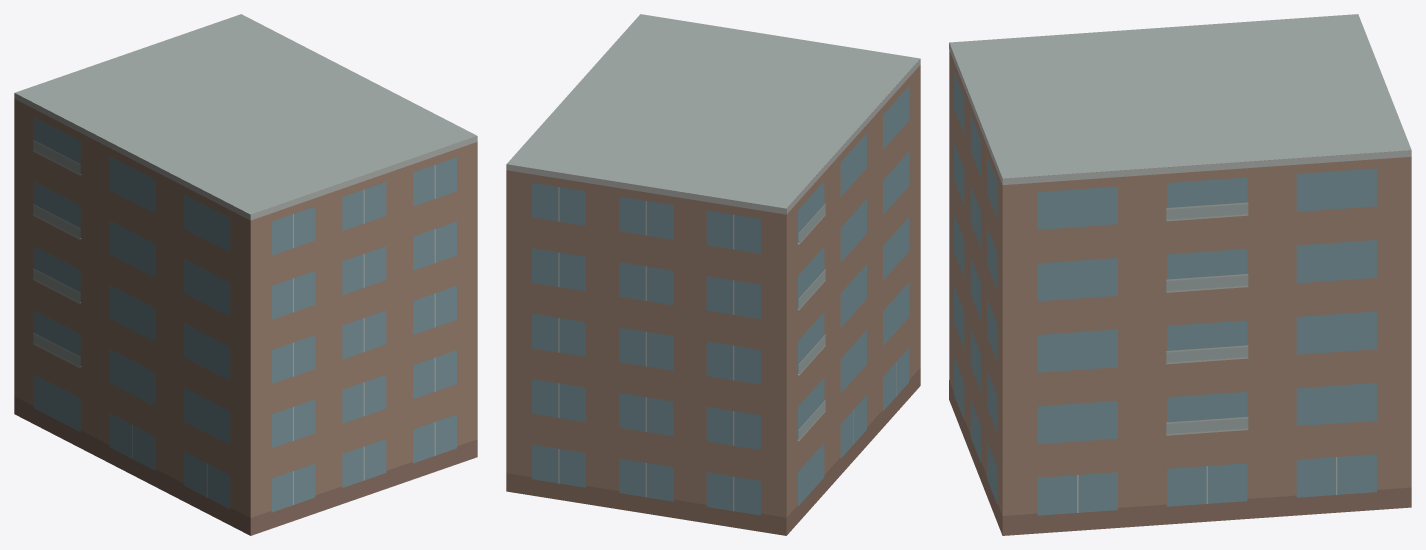
The model's file is survey-upis-32996899.glb.
3 renders of one model, left to right at view 1: azimuth 30°, elevation 25°; view 2: azimuth 150°, elevation 25°; view 3: azimuth 270°, elevation 25°, orthographic. The views are drawn at different scales.
Parts seen in each view (by area): view 1: survey-upis-32996899.tmp; view 2: survey-upis-32996899.tmp; view 3: survey-upis-32996899.tmp.
Part boxes in pixels (x1,y1,x2,y2): survey-upis-32996899.tmp: (14,14,477,535); survey-upis-32996899.tmp: (506,14,920,535); survey-upis-32996899.tmp: (949,14,1411,535).
Size of the model in its own units: 13.1 by 13.25 by 15.56.
